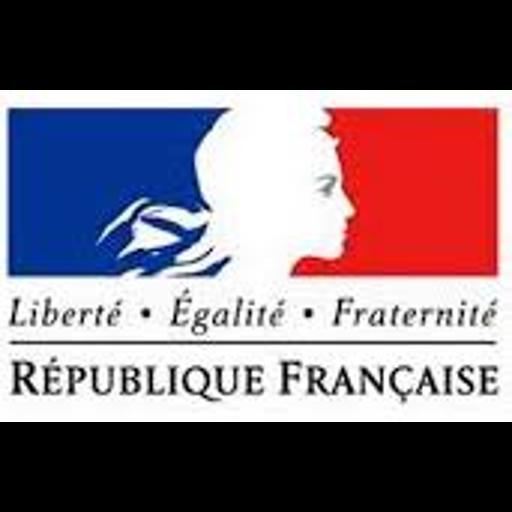DGI -French Tax Authority-: (0, 90, 512, 422)
